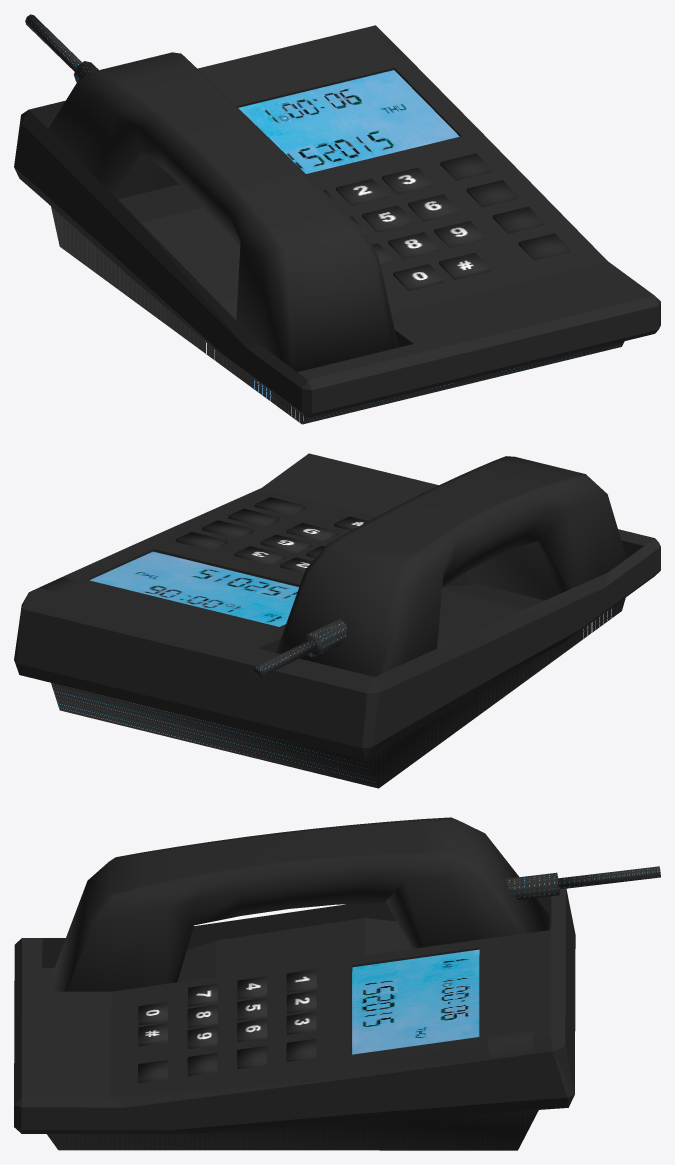
Rendered from Phone.fbx.
3 renders of one model, top to bottom at view 1: azimuth 30°, elevation 25°; view 2: azimuth 150°, elevation 25°; view 3: azimuth 270°, elevation 25°, orthographic. The views are drawn at different scales.
Visible parts, largest first — view 1: phone; view 2: phone; view 3: phone.
Boxes of the visible parts, x1,y1,x2,y2 form: phone: (14, 14, 660, 424); phone: (14, 453, 660, 788); phone: (14, 817, 660, 1150).
Size of the model in its own units: 17.85 by 9.41 by 29.43.
1 material, 1 textured.
